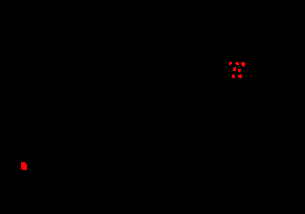Target: (21, 162, 27, 170), (241, 62, 245, 67), (238, 74, 242, 78), (235, 62, 239, 65), (233, 67, 236, 71), (232, 74, 235, 78), (229, 62, 232, 65), (238, 69, 241, 72)
